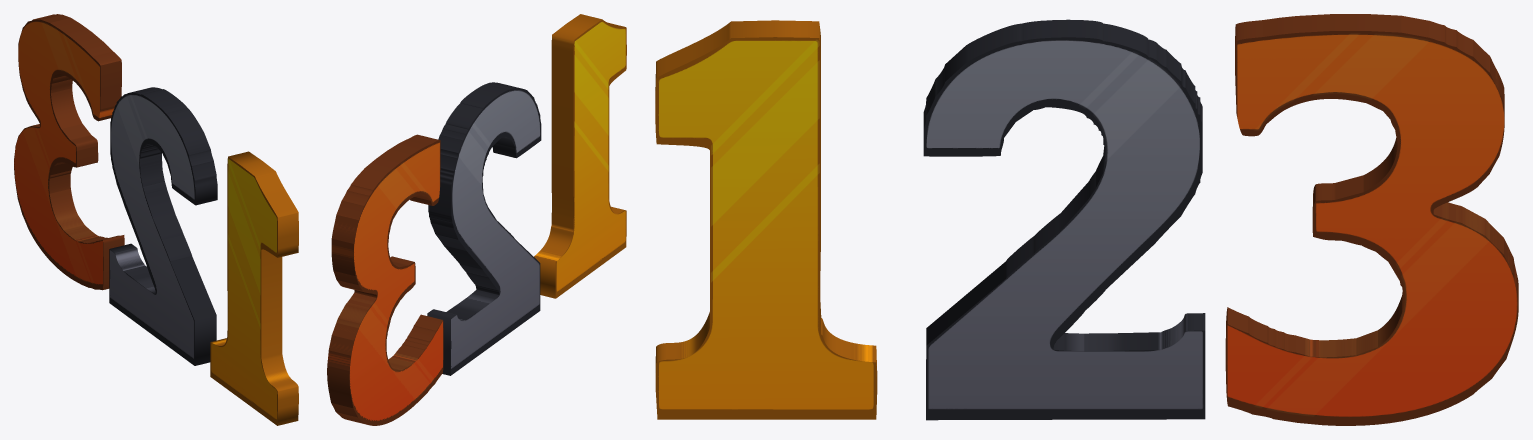
The model's file is ShieldNumbers.fbx.
3 views of the same model, side by side, from view 1: azimuth 30°, elevation 25°; view 2: azimuth 150°, elevation 25°; view 3: azimuth 270°, elevation 25° (orthographic). The views are drawn at different scales.
Parts seen in each view (by area): view 1: SShape002, SShape003, SShape001; view 2: SShape003, SShape002, SShape001; view 3: SShape003, SShape002, SShape001.
Part boxes in pixels (left/top/right/bottom): SShape002: left=109, top=87, right=217, bottom=365; SShape003: left=14, top=14, right=124, bottom=290; SShape001: left=210, top=151, right=298, bottom=425; SShape003: left=327, top=134, right=443, bottom=425; SShape002: left=427, top=82, right=541, bottom=375; SShape001: left=534, top=14, right=626, bottom=298; SShape003: left=1225, top=14, right=1518, bottom=425; SShape002: left=923, top=19, right=1205, bottom=420; SShape001: left=655, top=20, right=877, bottom=419.
Size of the model in its own units: 14.94 by 157 by 310.
3 materials, 3 textured.
